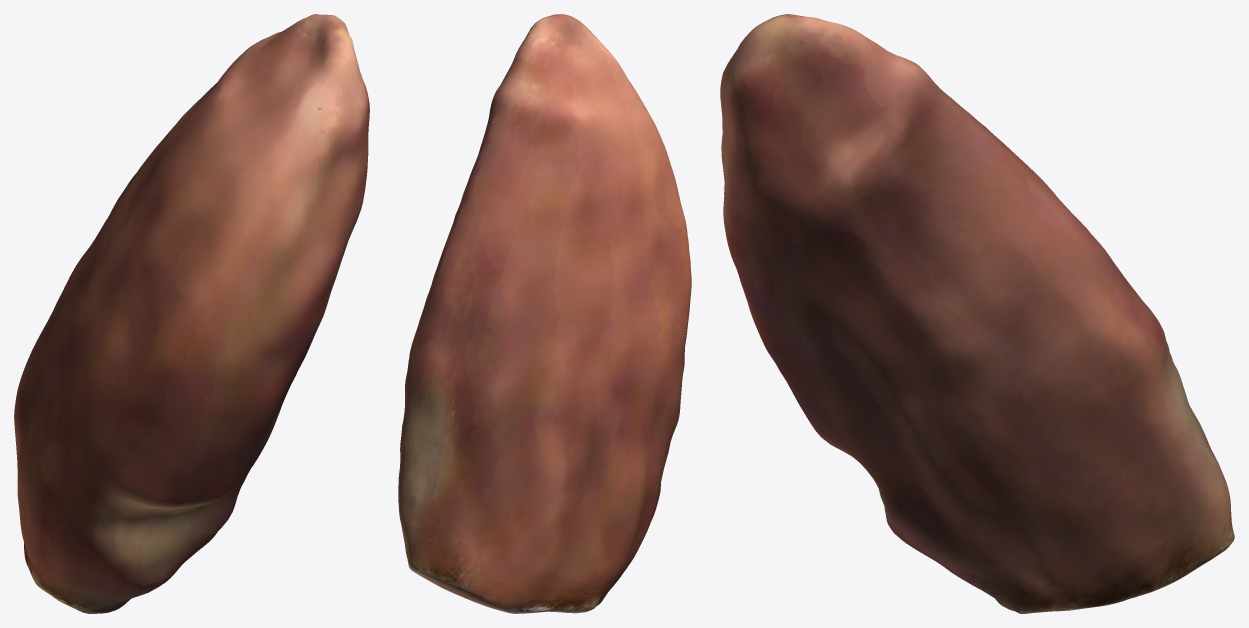
Rendered from Mandel_low.fbx.
The picture shows the model from 3 angles, left to right: view 1: azimuth 30°, elevation 25°; view 2: azimuth 150°, elevation 25°; view 3: azimuth 270°, elevation 25°; orthographic projection. The views are drawn at different scales.
Parts seen in each view (by area): view 1: Mandel_tex; view 2: Mandel_tex; view 3: Mandel_tex.
Boxes of the visible parts, bbox=[...] form: Mandel_tex: bbox=[14, 14, 369, 613]; Mandel_tex: bbox=[398, 14, 691, 613]; Mandel_tex: bbox=[720, 14, 1234, 613].
Size of the model in its own units: 0.971 by 2.39 by 1.71.
1 material, 1 textured.
